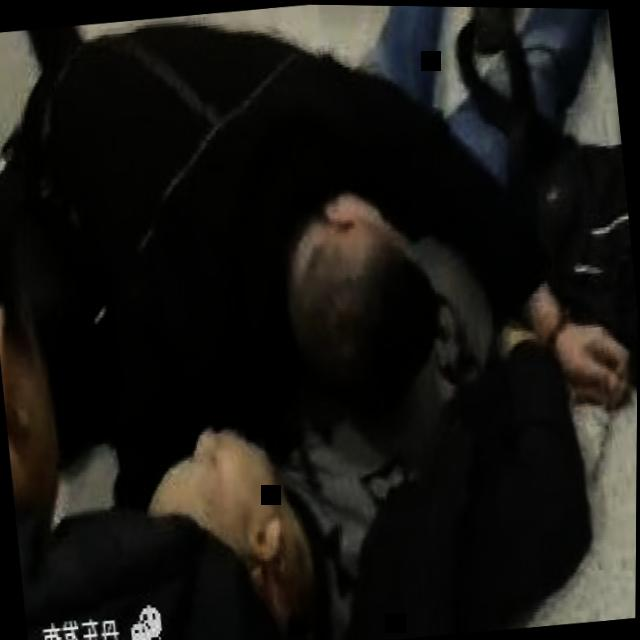Fall-Detected: (27, 0, 640, 640)
